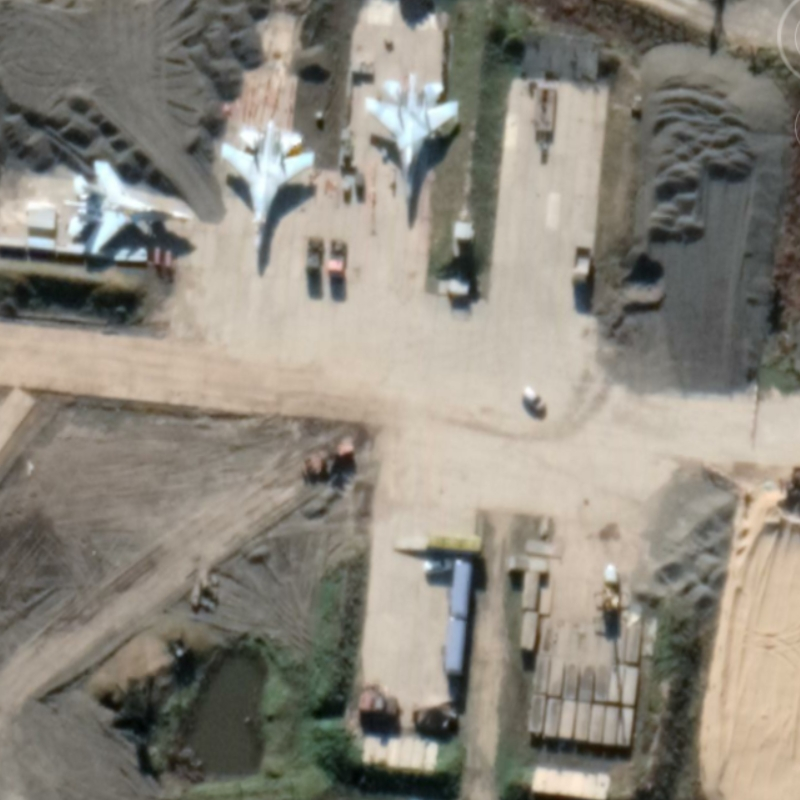A1: (217, 118, 317, 266), (364, 71, 462, 218), (60, 156, 196, 260)
